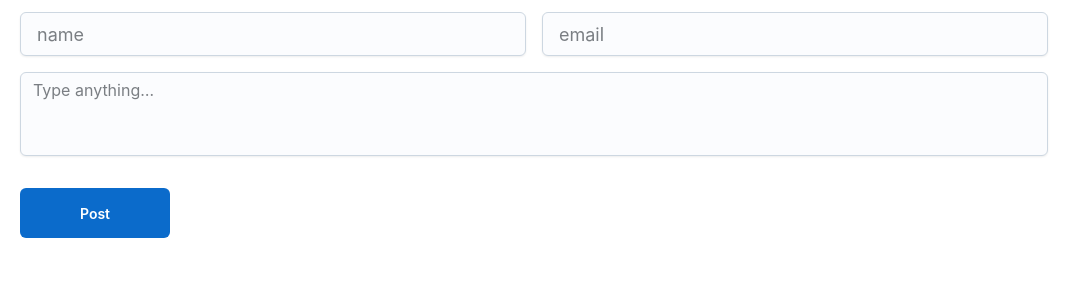
CommentSection Component › validates empty form fields and shows error messages
// Click the submit button
Click the button with test id "submitButton": coordinates (95, 213) [20, 188, 170, 238]
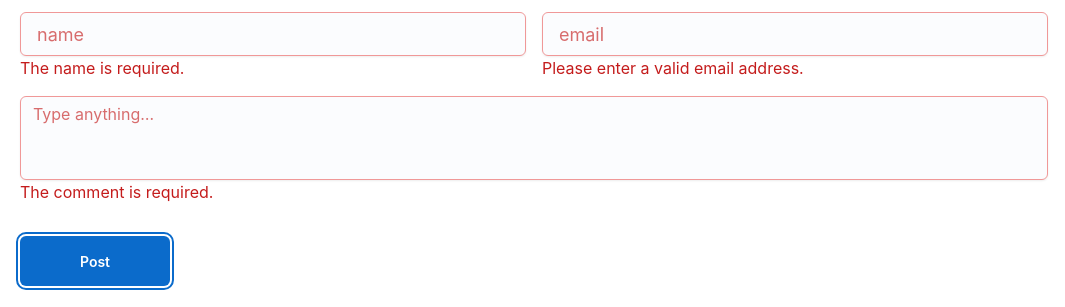
Now the text "The name is required." is shown, box [20, 58, 184, 78]
Now the text "Please enter a valid email address." is shown, box [542, 58, 804, 78]
Now the text "The comment is required." is shown, box [20, 182, 213, 202]
